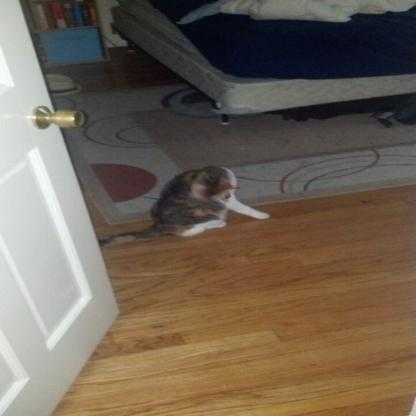Target: (89, 162, 274, 252)
